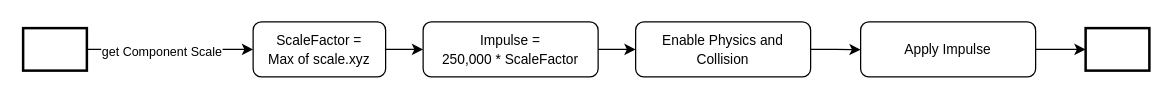
This 1171x99 diagram has some shape labels left out. Here are the shapes that lost their labels. From the top down, the box of each, then its label:
(21, 26, 88, 71): Start
(1084, 26, 1150, 71): Return
